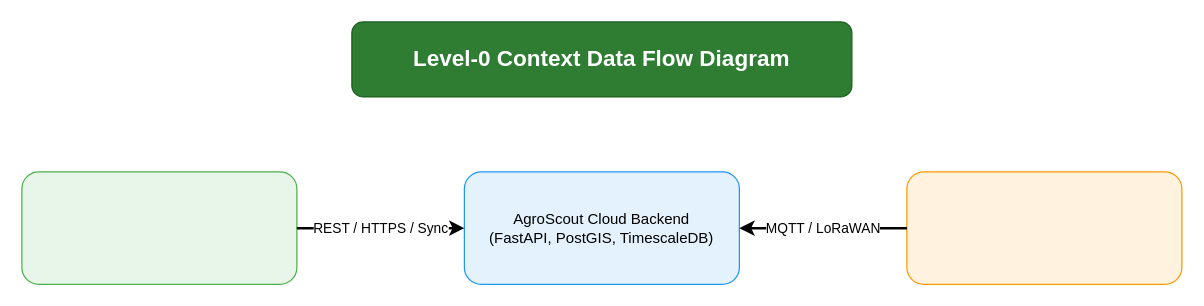
The diagram is 1204 pixels wide and 306 high, and some of its shapes have lost their labels. Here are the shapes that lost their labels. From the top down, the box of each, then its label:
(21, 171, 297, 284): Flutter Mobile Client (Offline Cache & On-Device TFLite)
(906, 171, 1182, 284): Edge IoT Rover & Sensors (ESP32, CM4, Multispectral Cam)
